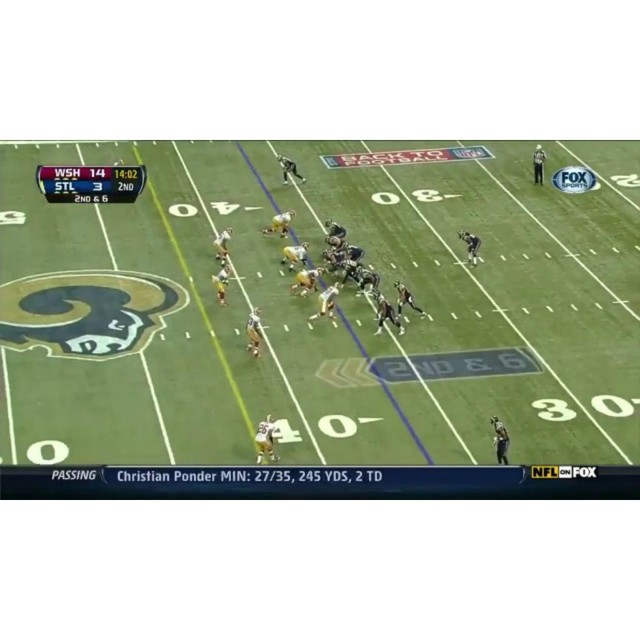american-football-player: (306, 281, 343, 330), (393, 279, 429, 320), (373, 292, 406, 336), (254, 414, 281, 465), (490, 415, 511, 466), (290, 268, 325, 298), (261, 210, 296, 239), (279, 242, 310, 274), (458, 229, 483, 268), (276, 154, 306, 186), (245, 306, 262, 358), (211, 264, 231, 307), (213, 226, 234, 264), (321, 248, 347, 278), (355, 268, 381, 297), (340, 259, 362, 290), (343, 242, 365, 264), (324, 219, 347, 240), (324, 234, 345, 252)
referee: (532, 144, 546, 186)
